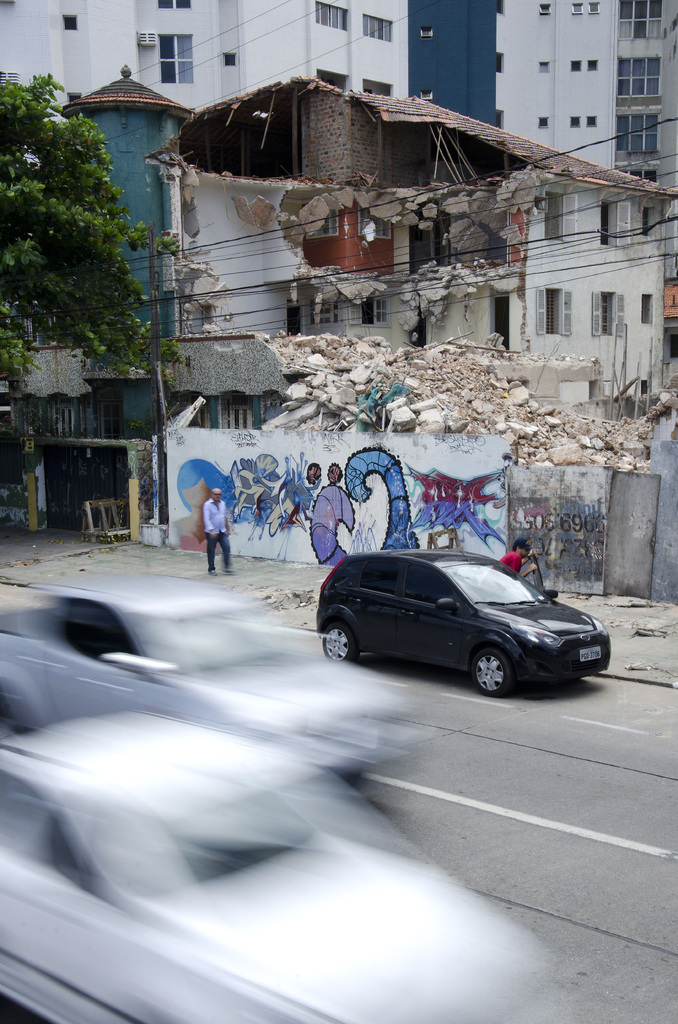cars: (312, 541, 608, 696)
